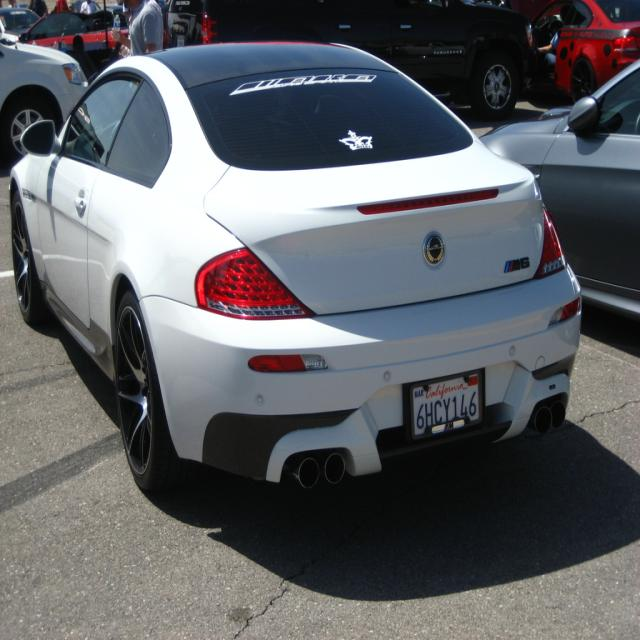car: (8, 29, 576, 527)
